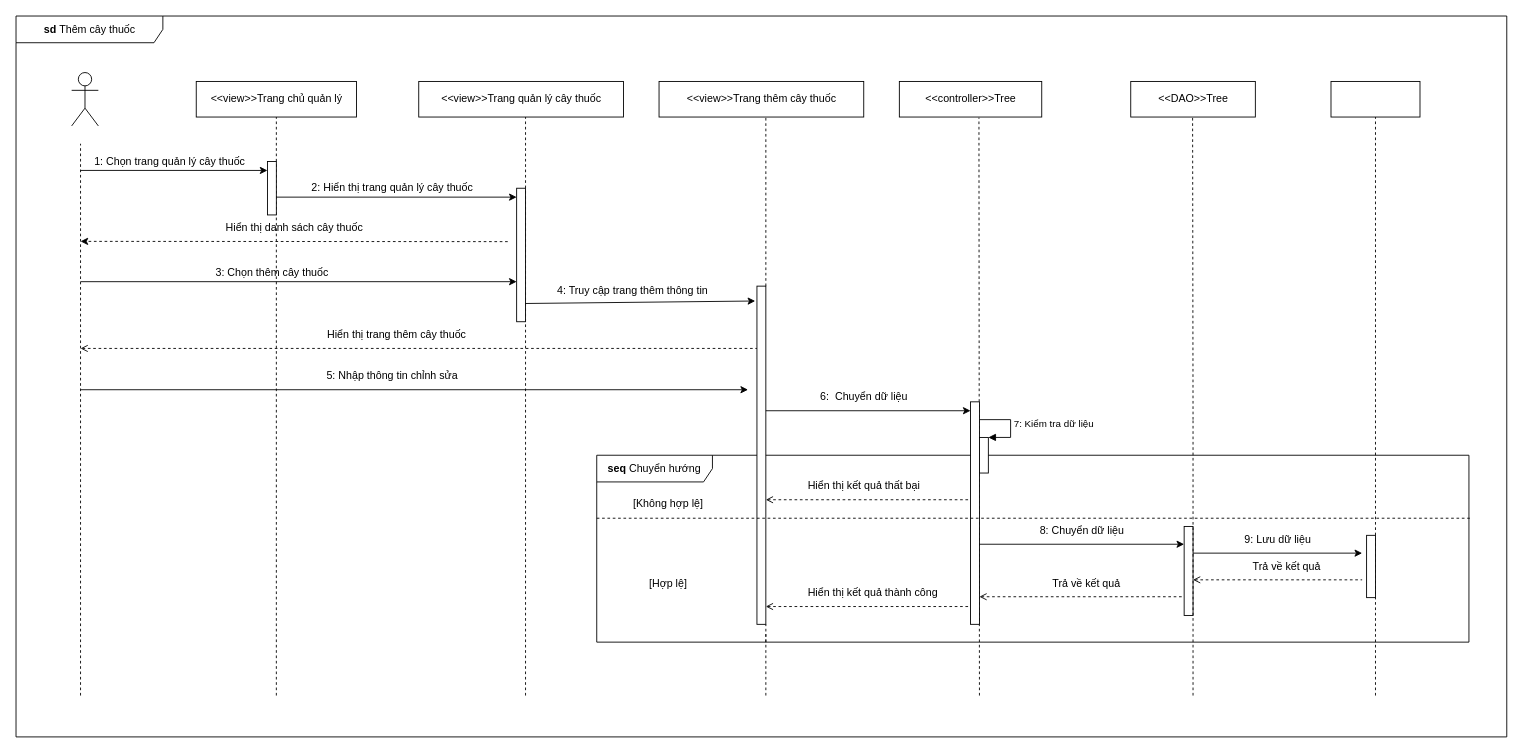
The diagram is 1522 pixels wide and 752 high, and some of its shapes have lost their labels. The centre of each missing label's shape, as x and y in pixels:
"Database" belongs at pixel 1375 99.
"Quản lý" belongs at pixel 84 99.
